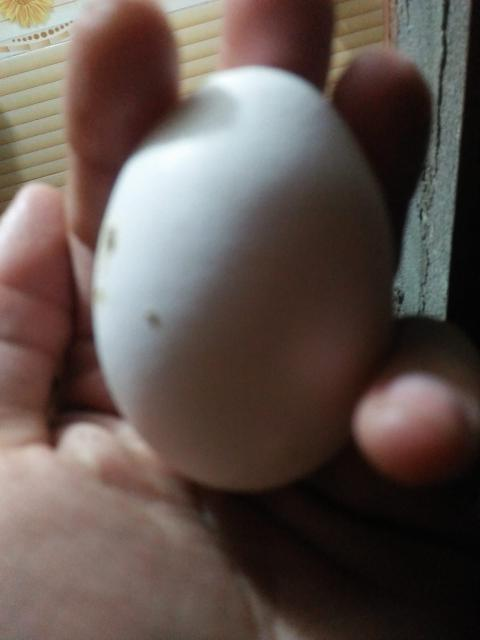Sano: (88, 64, 396, 493)
